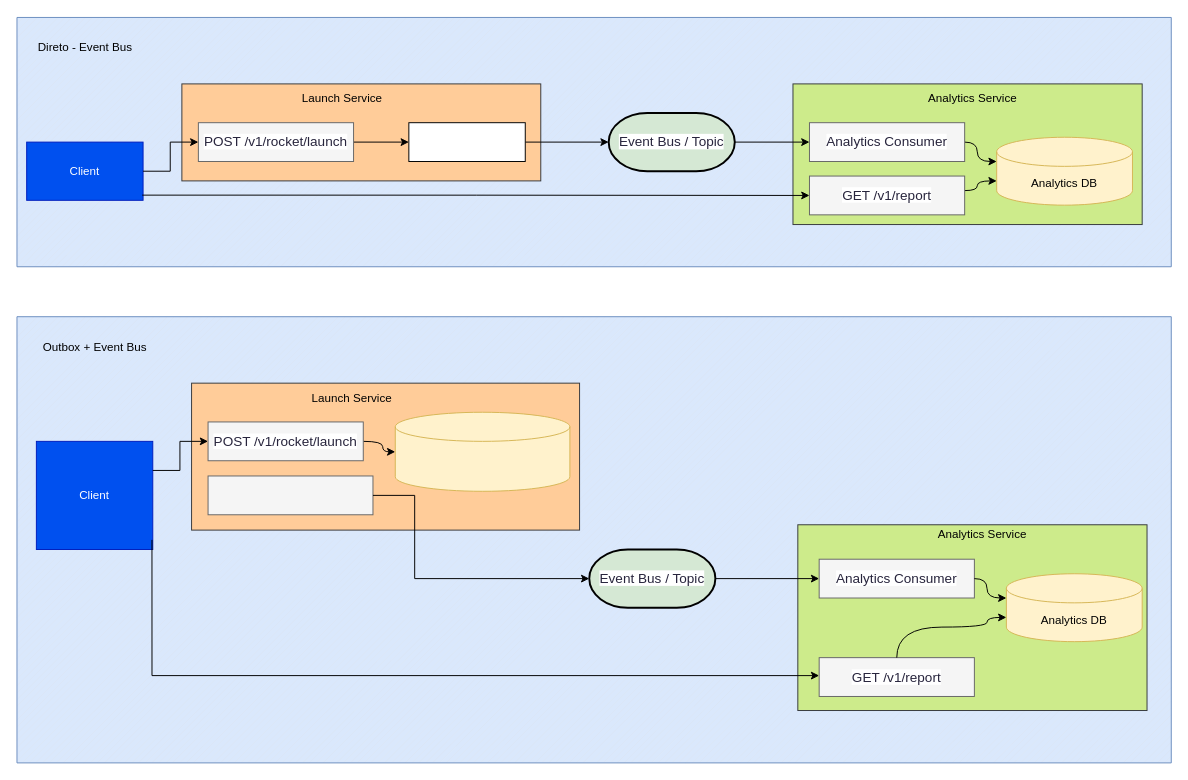
Some shapes in this 1188 by 780 pixel diagram are drawn without their labels. Each missing label, with the centre of its shape:
Event Producer: the point at 466,142
Launch DB + Outbox table: the point at 482,451
Outbox Worker (publisher): the point at 290,495
